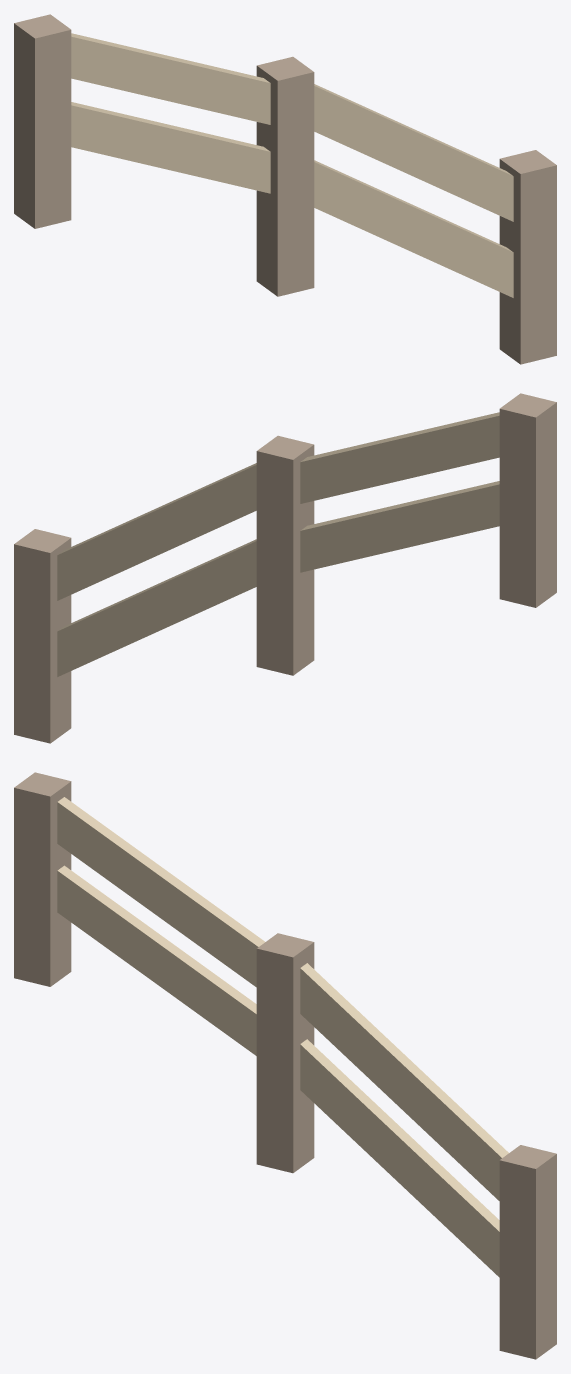
The model's file is Prop_Fence_Hill_Sharp.glb.
The picture shows the model from 3 angles, top to bottom: view 1: azimuth 30°, elevation 25°; view 2: azimuth 150°, elevation 25°; view 3: azimuth 330°, elevation 25°; orthographic projection.
Parts seen in each view (by area): view 1: object2, object5, object6, object3, object7, object4, object1; view 2: object2, object5, object6, object3, object7, object4, object1; view 3: object2, object6, object3, object7, object1, object4, object5.
Part boxes in pixels (x1,y1,x2,y2): object2: (256, 56, 314, 296); object5: (14, 14, 71, 228); object6: (499, 150, 556, 364); object3: (314, 84, 513, 221); object7: (314, 160, 513, 297); object4: (71, 102, 270, 193); object1: (71, 33, 270, 124); object2: (256, 435, 314, 675); object5: (499, 393, 556, 607); object6: (14, 529, 71, 743); object3: (57, 463, 256, 600); object7: (57, 539, 256, 676); object4: (300, 481, 499, 572); object1: (300, 412, 499, 503); object2: (256, 933, 314, 1173); object6: (499, 1145, 556, 1359); object3: (300, 963, 508, 1200); object7: (300, 1039, 499, 1277); object1: (57, 797, 264, 987); object4: (57, 865, 256, 1055); object5: (14, 772, 71, 986).
Bounding box in the file's own units: 2.15 × 1.75 × 0.15.
